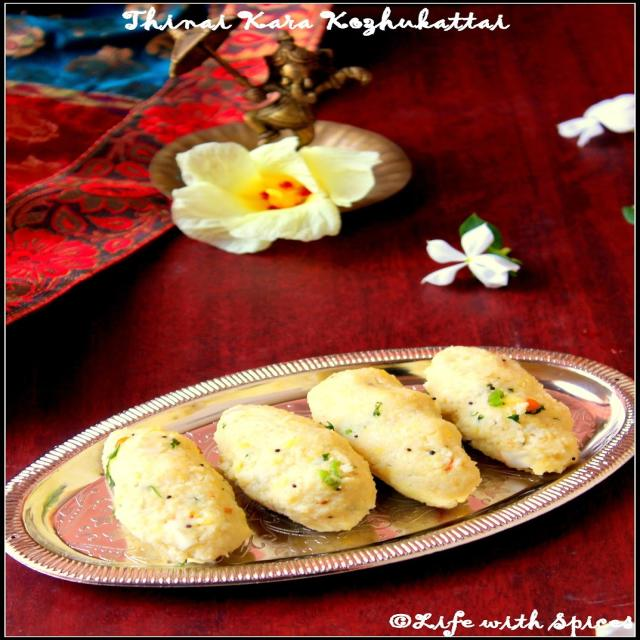pidi kolukattai: (94, 348, 604, 575)
